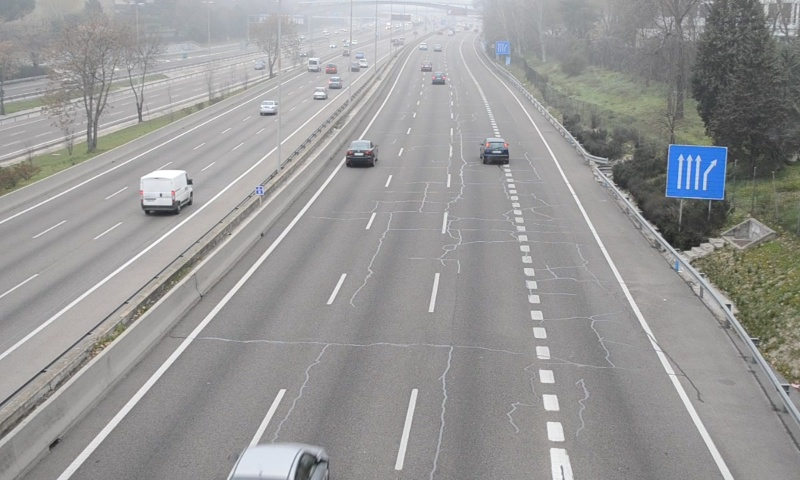car: (346, 140, 377, 166), (481, 138, 508, 162)
